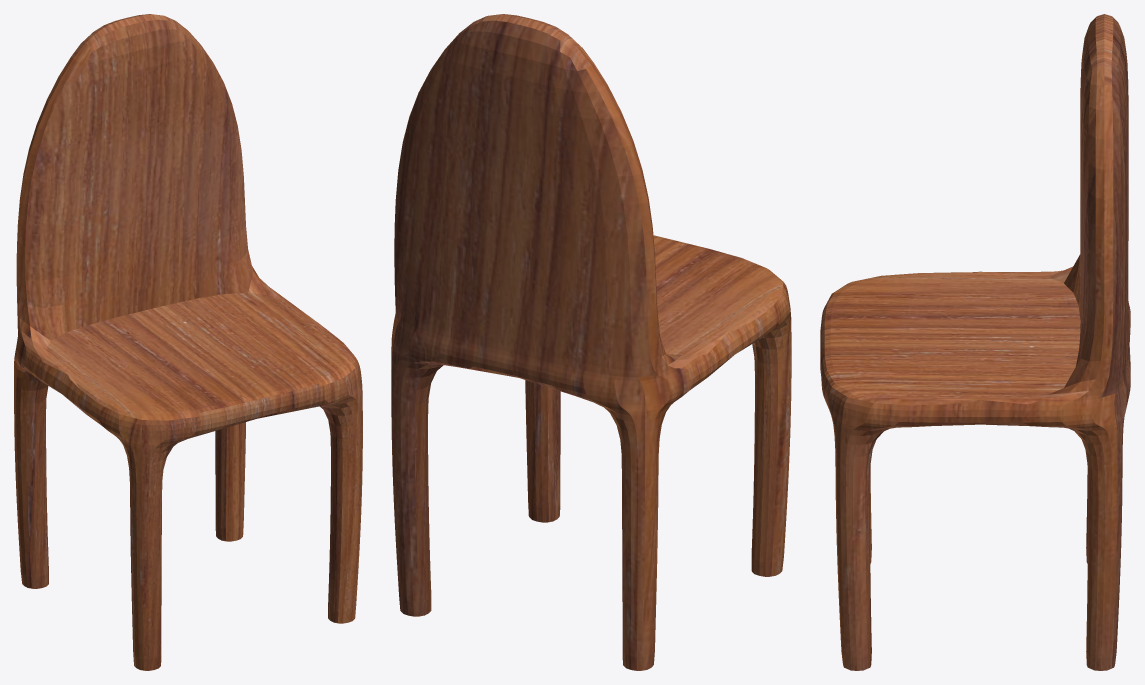
The model's file is chair.gltf.
3 views of the same model, side by side, from view 1: azimuth 30°, elevation 25°; view 2: azimuth 150°, elevation 25°; view 3: azimuth 270°, elevation 25° (orthographic). The views are drawn at different scales.
Parts seen in each view (by area): view 1: Cube; view 2: Cube; view 3: Cube.
Part boxes in pixels (x1,y1,x2,y2): Cube: [14, 14, 362, 670]; Cube: [391, 14, 791, 670]; Cube: [820, 14, 1130, 670].
Size of the model in its own units: 2.23 by 4.56 by 2.17.
Materials: 1 (1 with a texture image).
